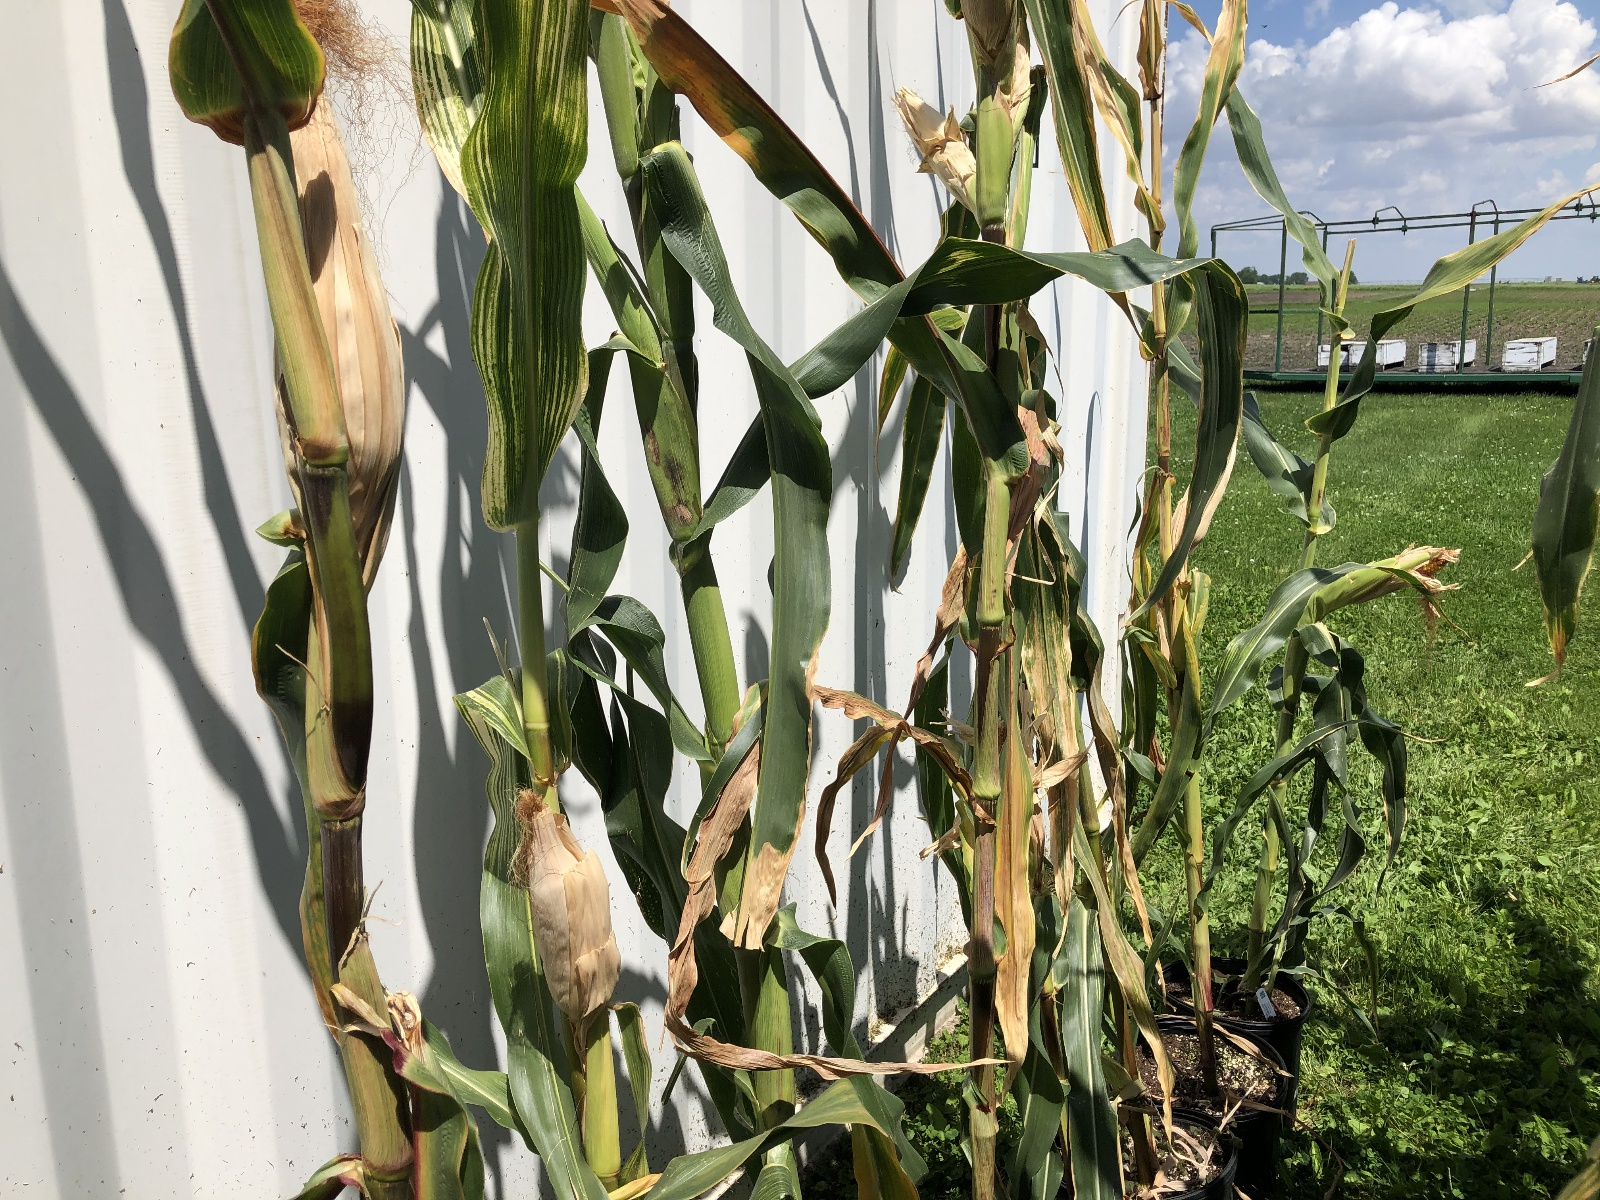ear: (271, 9, 414, 487), (511, 787, 619, 1025), (884, 77, 989, 213), (1308, 539, 1471, 610)
